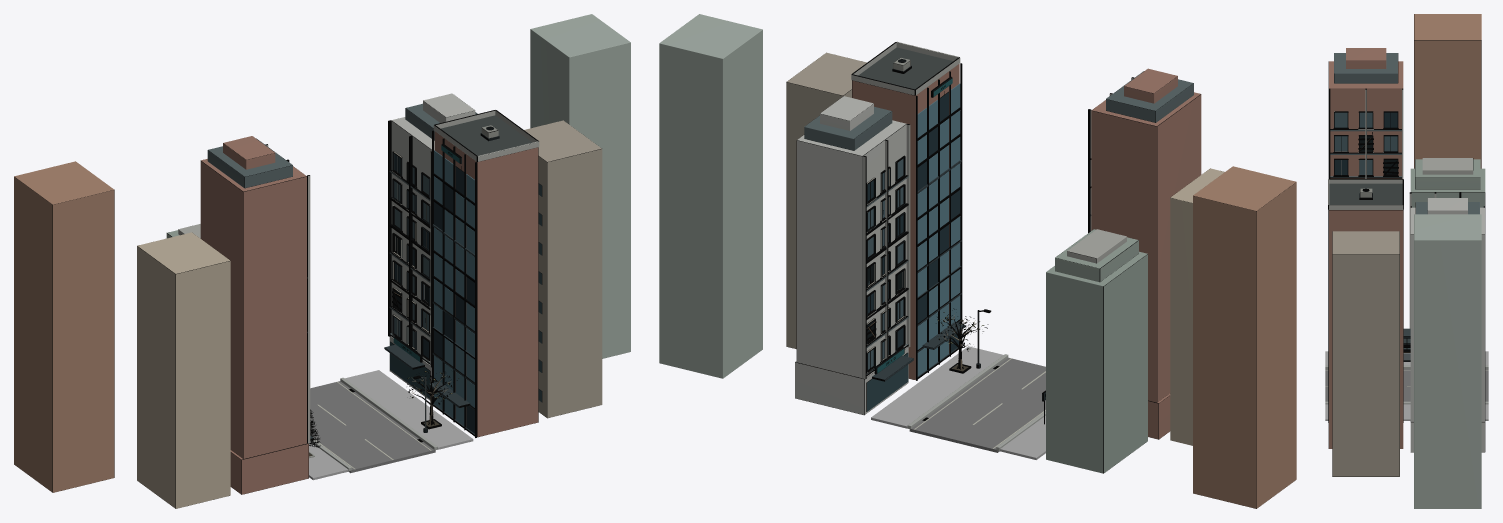
File: city_hd_06.glb
The picture shows the model from 3 angles, left to right: view 1: azimuth 30°, elevation 25°; view 2: azimuth 150°, elevation 25°; view 3: azimuth 270°, elevation 25°; orthographic projection. The views are drawn at different scales.
Visible parts, largest first — view 1: Background city building, CITY_ac_paint, CITY_PBR_asphalt, CITY_PBR_pavement, CITY_curb; view 2: Background city building, CITY_ac_paint, CITY_PBR_asphalt, CITY_PBR_pavement, CITY_curb; view 3: Background city building, CITY_PBR_asphalt, CITY_PBR_pavement.
Boxes of the visible parts, left/top/right/bottom form: Background city building: left=14, top=14, right=630, bottom=508; CITY_ac_paint: left=434, top=150, right=474, bottom=425; CITY_PBR_asphalt: left=310, top=381, right=435, bottom=473; CITY_PBR_pavement: left=309, top=370, right=473, bottom=480; CITY_curb: left=310, top=377, right=437, bottom=471; Background city building: left=659, top=14, right=1296, bottom=508; CITY_ac_paint: left=917, top=83, right=960, bottom=376; CITY_PBR_asphalt: left=909, top=357, right=1045, bottom=452; CITY_PBR_pavement: left=871, top=346, right=1045, bottom=459; CITY_curb: left=907, top=354, right=1045, bottom=450; Background city building: left=1328, top=14, right=1485, bottom=508; CITY_PBR_asphalt: left=1325, top=369, right=1488, bottom=401; CITY_PBR_pavement: left=1325, top=351, right=1488, bottom=420.
Bounding box in the file's own units: 56.65 × 30.63 × 16.
Materials: 10 (1 with a texture image).
